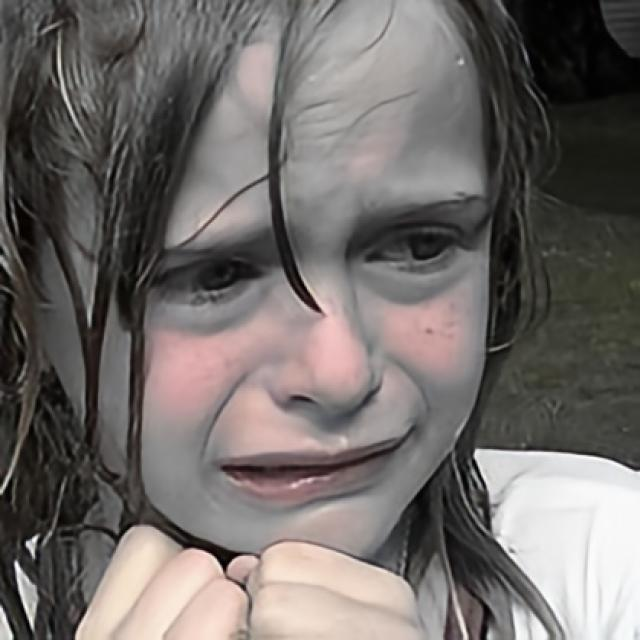sad: (55, 0, 495, 564)
